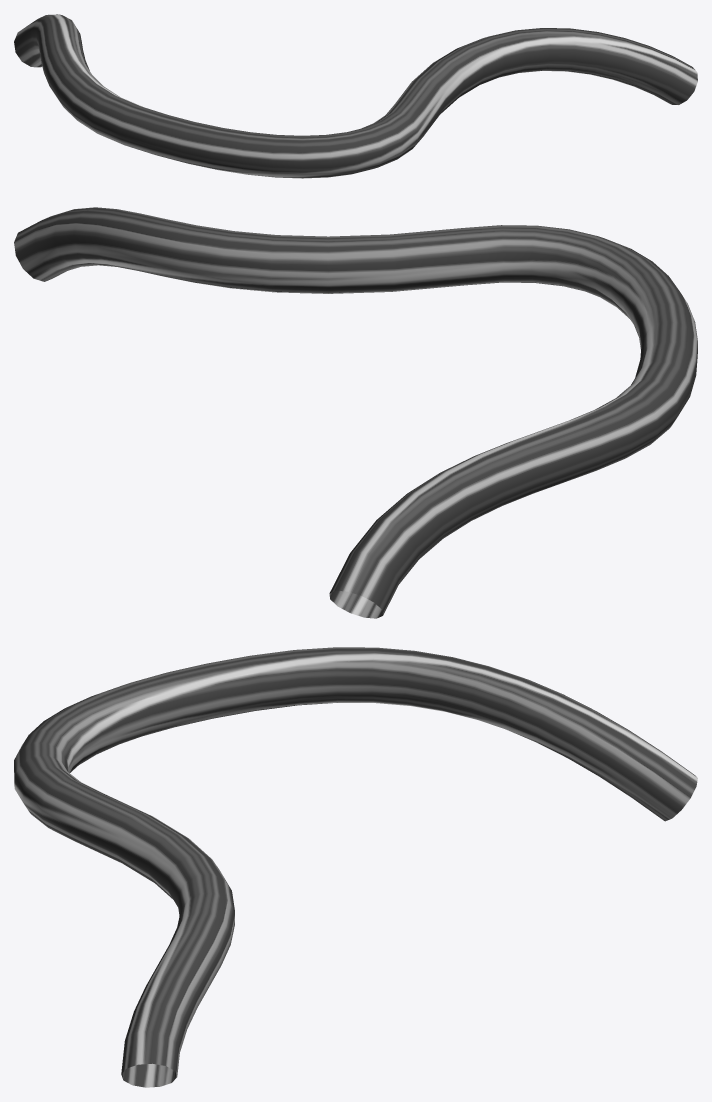
File: ChurnerTurningPipeA.fbx
The picture shows the model from 3 angles, top to bottom: view 1: azimuth 30°, elevation 25°; view 2: azimuth 150°, elevation 25°; view 3: azimuth 270°, elevation 25°; orthographic projection. The views are drawn at different scales.
Visible parts, largest first — view 1: ChurnerTurningPipeA_LOD0; view 2: ChurnerTurningPipeA_LOD0; view 3: ChurnerTurningPipeA_LOD0.
Part boxes in pixels (<box>): ChurnerTurningPipeA_LOD0: <box>14,14,697,178</box>; ChurnerTurningPipeA_LOD0: <box>14,207,697,618</box>; ChurnerTurningPipeA_LOD0: <box>14,647,697,1087</box>.
Size of what is drawn, in the model's own units: 685 by 112 by 570.
